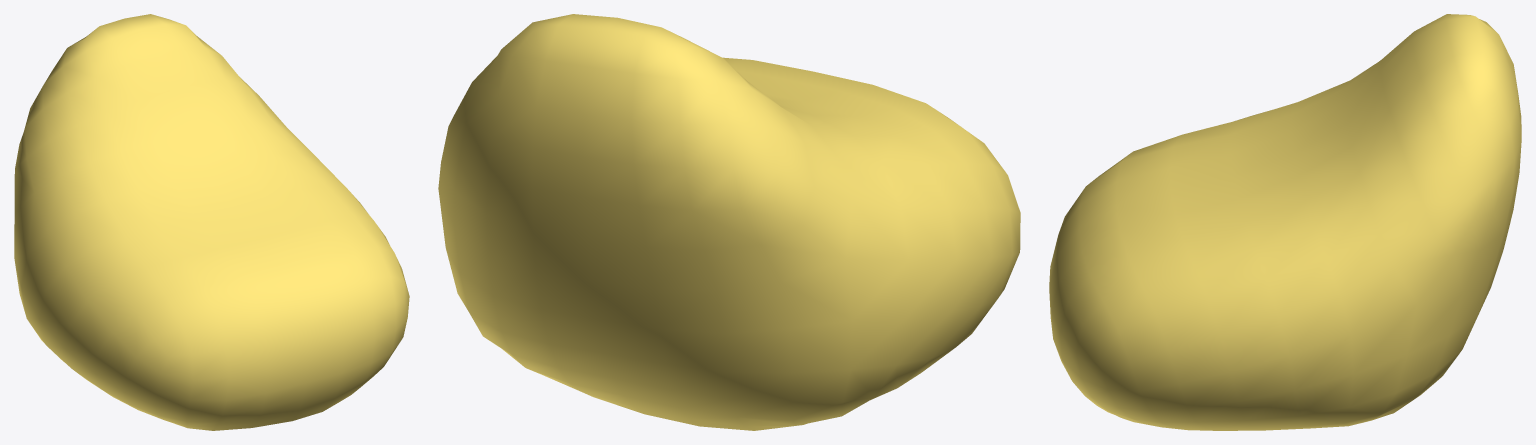
Rendered from Pouf.fbx.
3 renders of one model, left to right at view 1: azimuth 30°, elevation 25°; view 2: azimuth 150°, elevation 25°; view 3: azimuth 270°, elevation 25°, orthographic. The views are drawn at different scales.
Visible parts, largest first — view 1: Pouf; view 2: Pouf; view 3: Pouf.
Part boxes in pixels (left/top/right/bottom): Pouf: left=14, top=14, right=409, bottom=430; Pouf: left=438, top=14, right=1020, bottom=430; Pouf: left=1049, top=14, right=1521, bottom=430.
Size of the model in its own units: 129 by 136 by 109.
